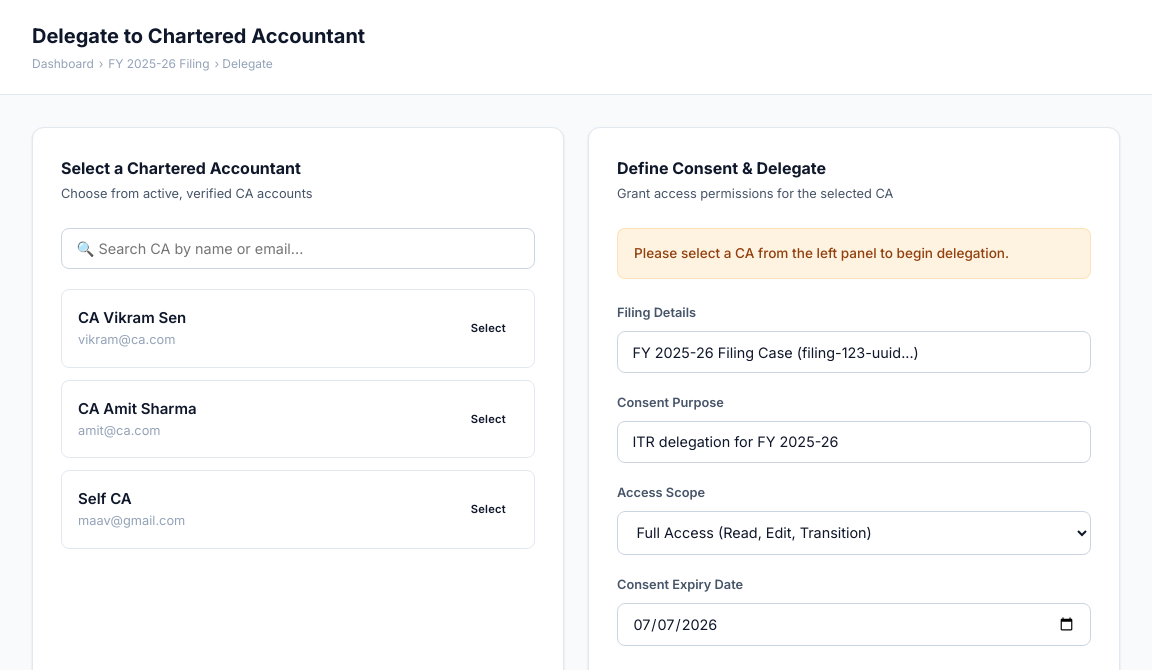
Test case: CA Assignment Workflow › handles delegation API errors cleanly
Select valid CA
Step 1. Click the element with test id "ca-item-ca-1-uuid" → (298, 329), box [61,289,535,368]
(page scrolled)
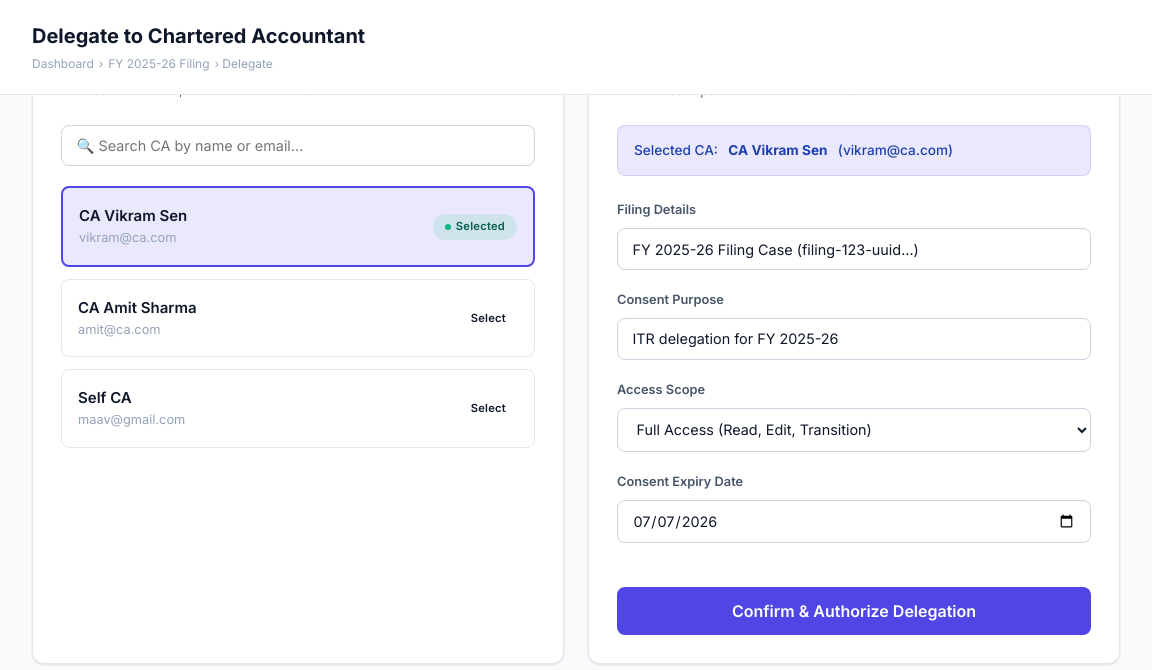
Submit form
Step 2. Submit the form with test id "consent-form", box [617,125,1091,634]
(page scrolled)
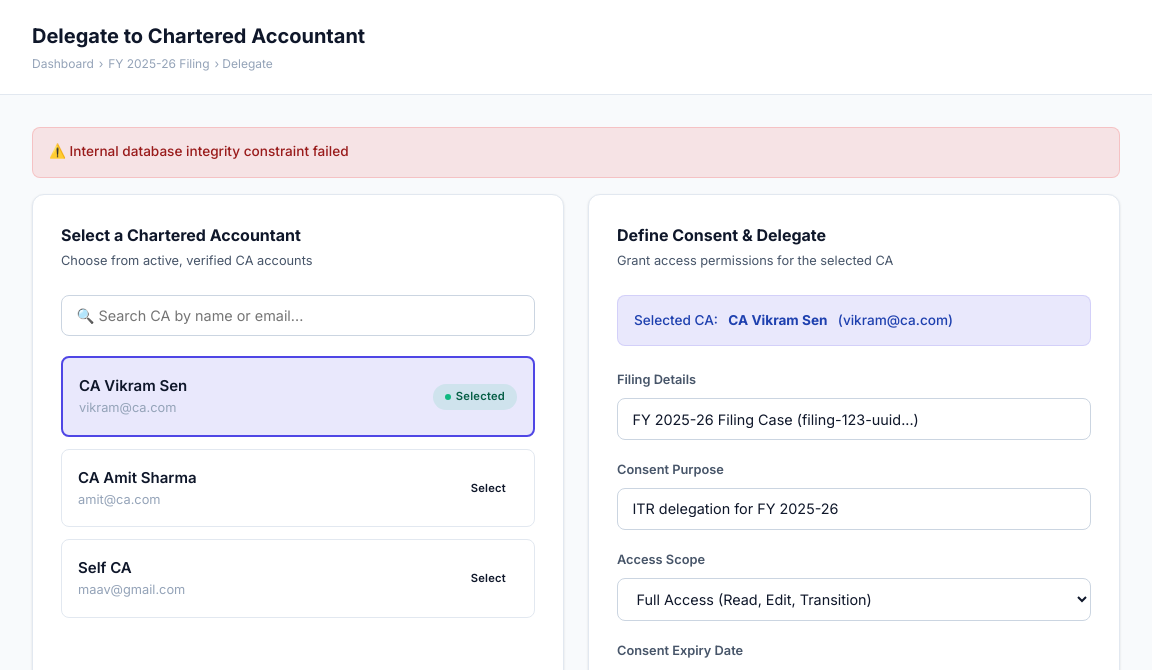
Expected: the text with test id "error-alert" shows "Internal database integrity constraint failed", [70,143,348,159]
